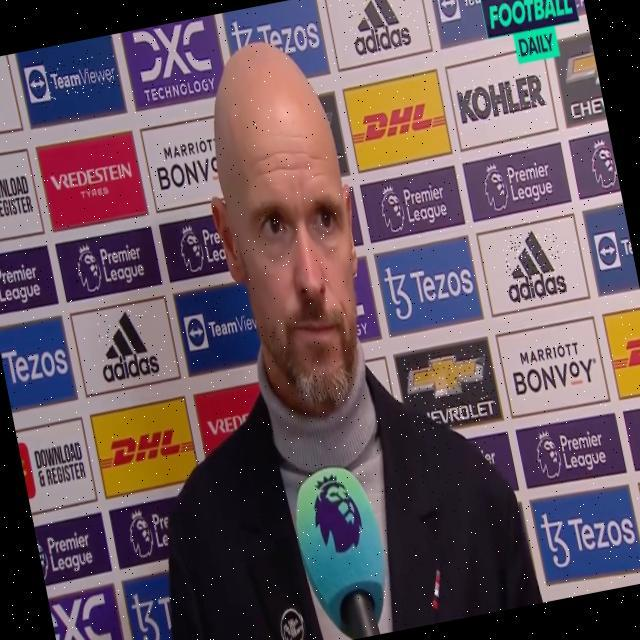Adidas: (92, 304, 163, 386), (498, 226, 568, 306), (343, 0, 414, 58)
Chevrolet: (402, 344, 499, 434)
Kohler: (455, 72, 547, 127)
TeamViewer: (23, 49, 120, 105)
